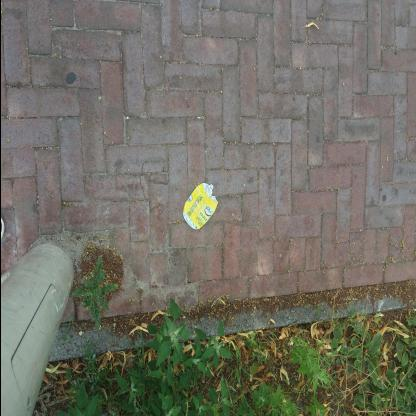metal: (182, 182, 218, 230)
